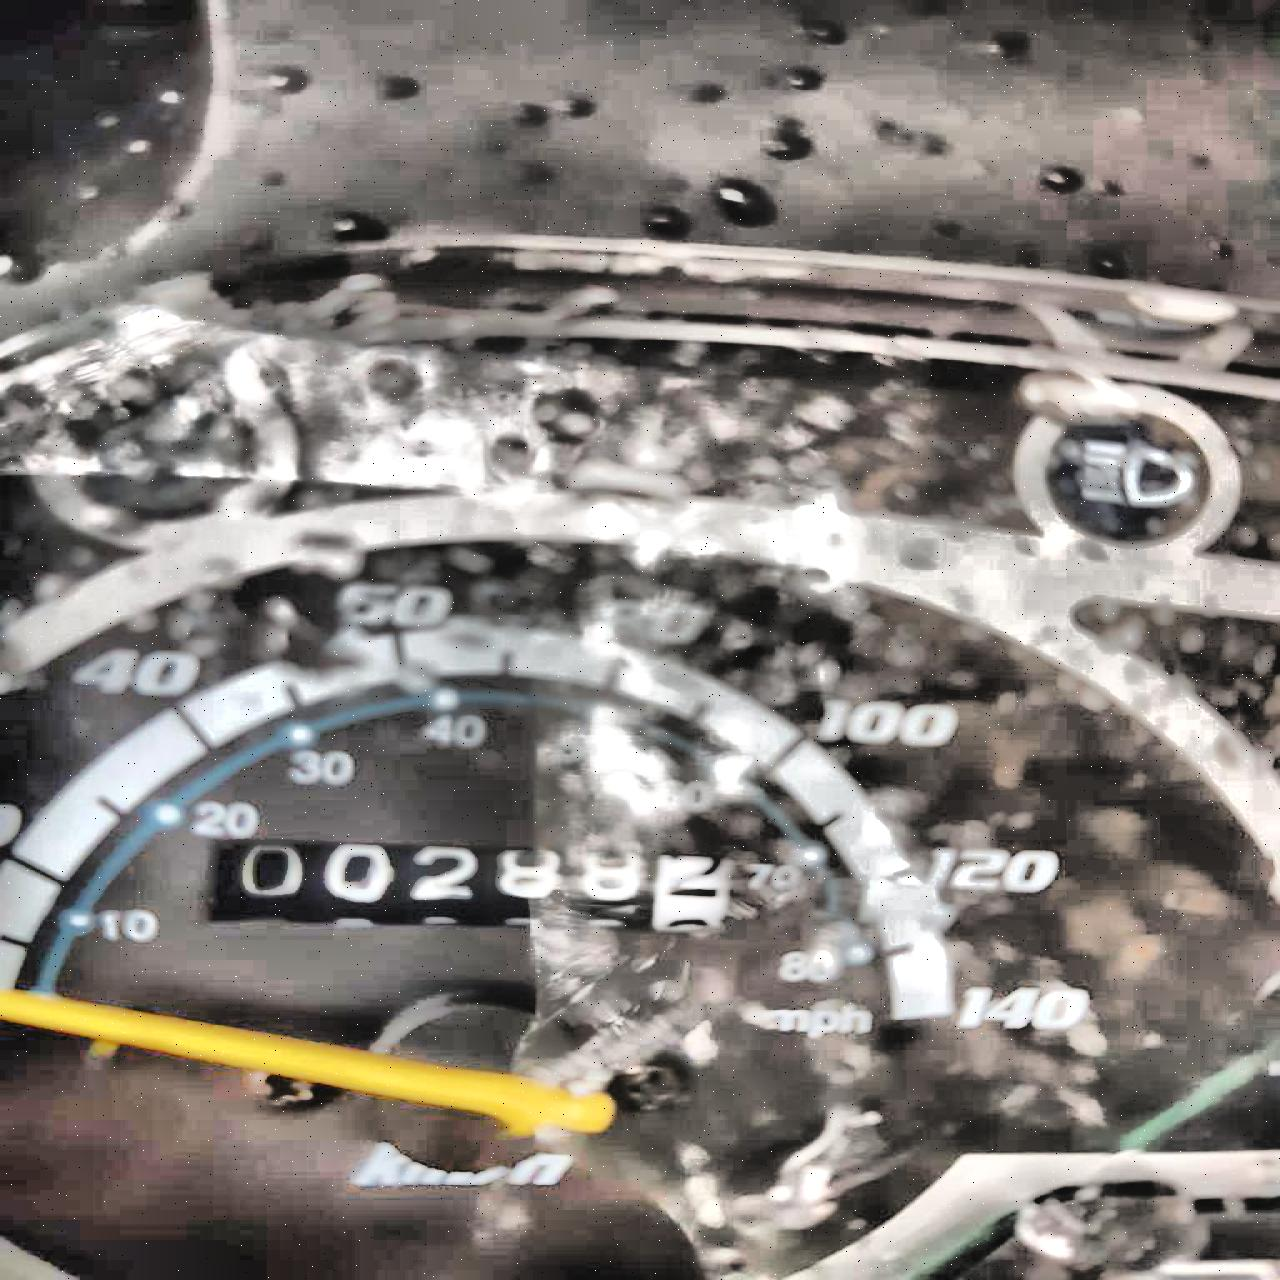0: (319, 837, 403, 912), (237, 838, 305, 904)
2: (408, 842, 482, 907), (666, 842, 731, 908)
8: (577, 842, 647, 906), (495, 840, 564, 904)
odometer: (213, 825, 750, 935)
